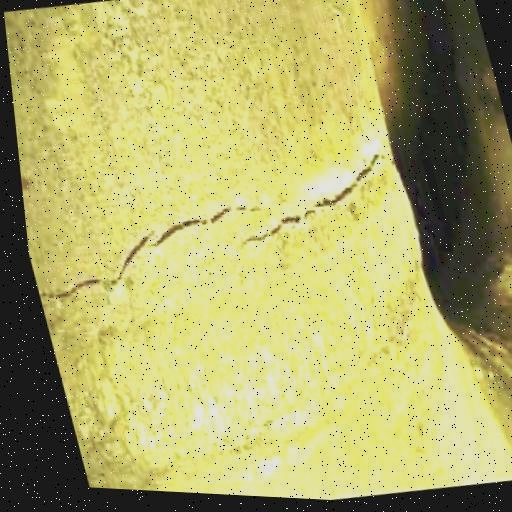crack: (15, 122, 425, 335)
